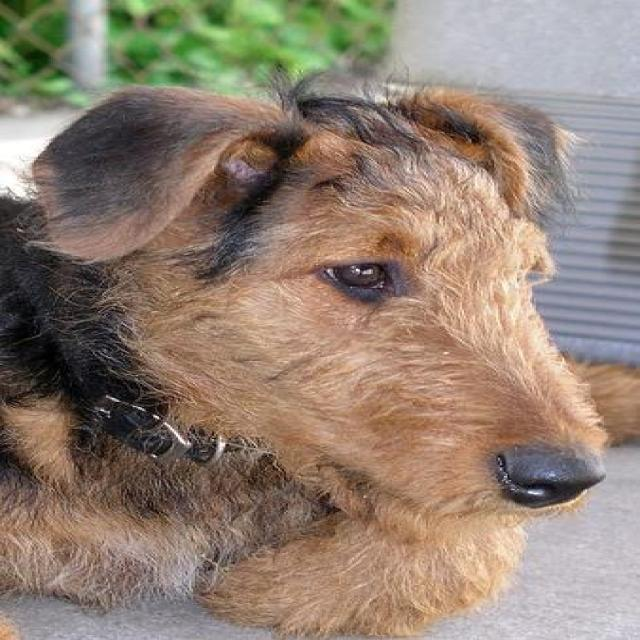airedale: (0, 64, 636, 637)
